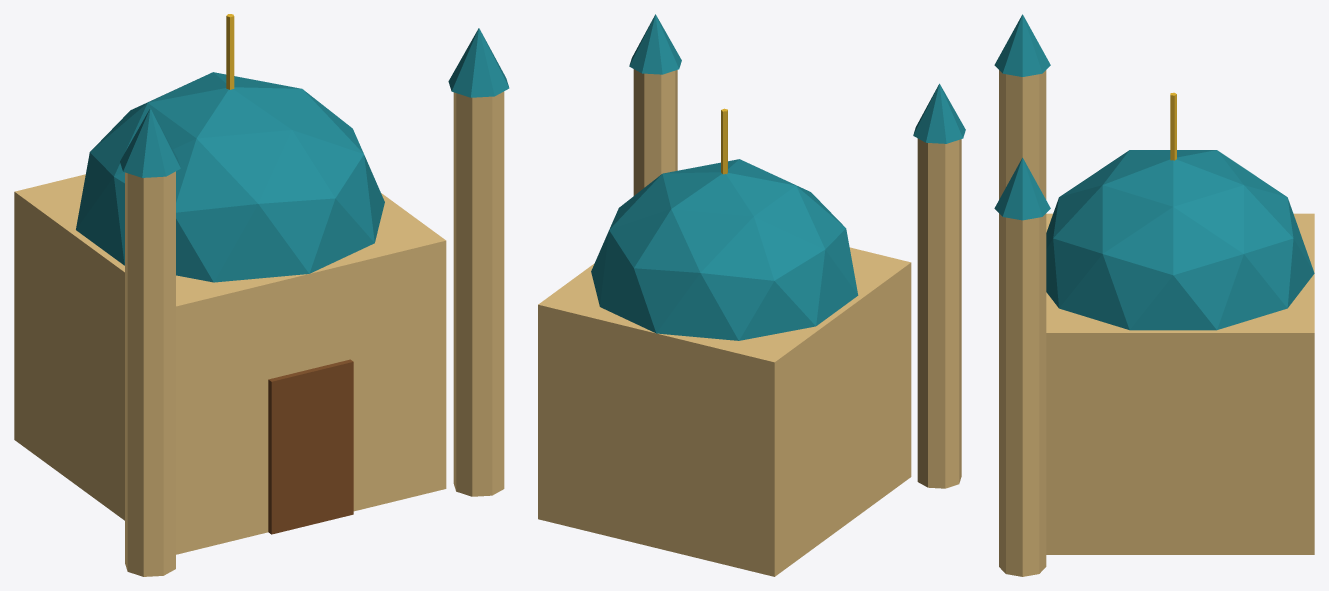
File: domed_mosque.fbx
3 renders of one model, left to right at view 1: azimuth 30°, elevation 25°; view 2: azimuth 150°, elevation 25°; view 3: azimuth 270°, elevation 25°, orthographic. The views are drawn at different scales.
Parts seen in each view (by area): view 1: domed_mosque; view 2: domed_mosque; view 3: domed_mosque.
Boxes of the visible parts, bbox=[...] form: domed_mosque: bbox=[14, 14, 509, 576]; domed_mosque: bbox=[538, 14, 965, 576]; domed_mosque: bbox=[994, 14, 1314, 576].
Bounding box in the file's own units: 4.2 × 4.8 × 3.4.
